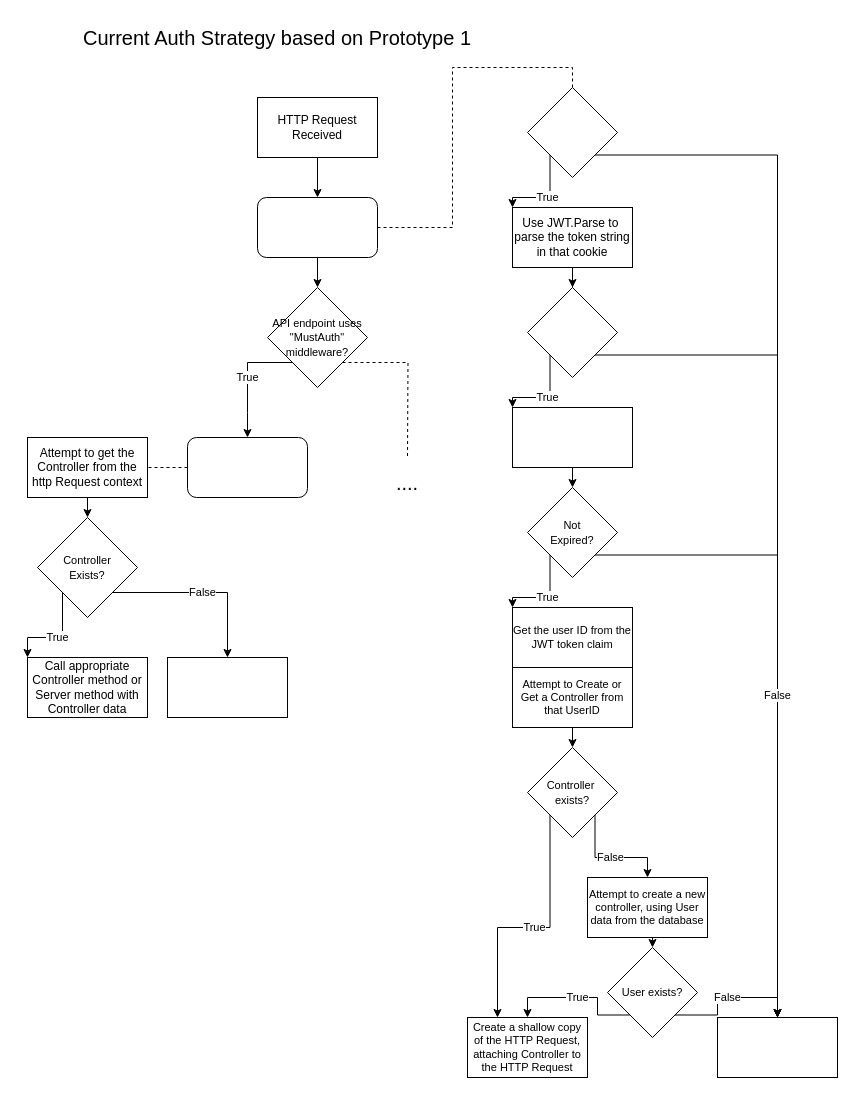
The diagram is 855 pixels wide and 1095 high, and some of its shapes have lost their labels. Here are the shapes that lost their labels. From the top down, the centre of each, then its label:
the point at 572,132: Request has cookie of correct name ?
the point at 317,227: ReadsAuth middleware
the point at 572,332: Succesful Parse?
the point at 572,437: Get the expiration time from the JWT token claim
the point at 247,467: MustAuth middleware
the point at 227,687: Send a 404: Forbidden Error
the point at 777,1047: Don't attach a controller to the HTTP Request
